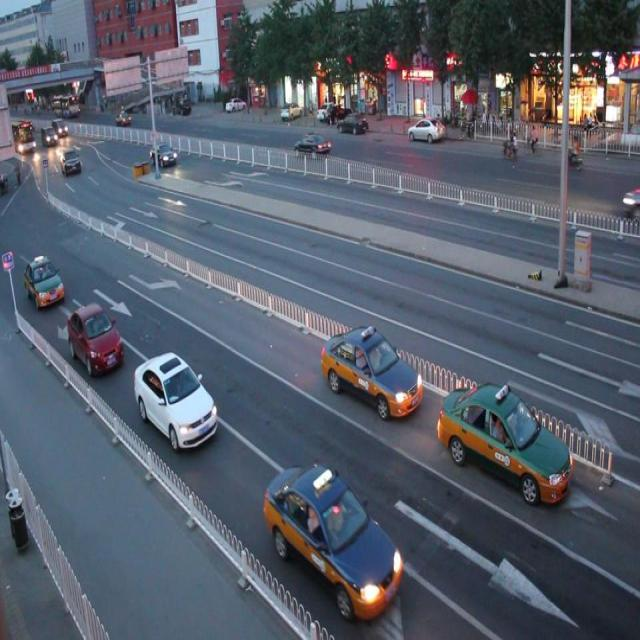car: (263, 464, 401, 618), (436, 379, 574, 504), (320, 322, 424, 420), (133, 351, 218, 454), (68, 301, 124, 373), (25, 252, 65, 310), (293, 131, 331, 158)
